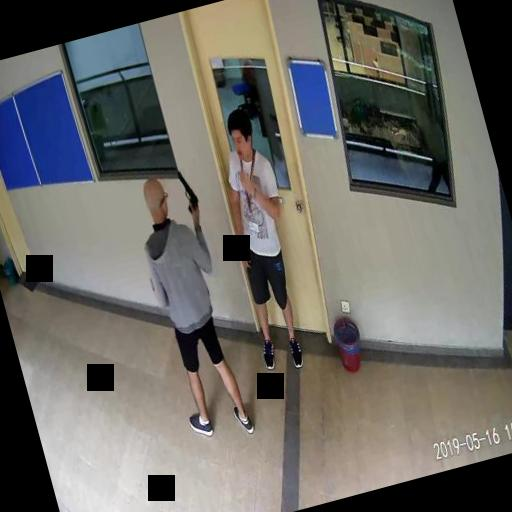Handgun: (175, 166, 199, 214)
